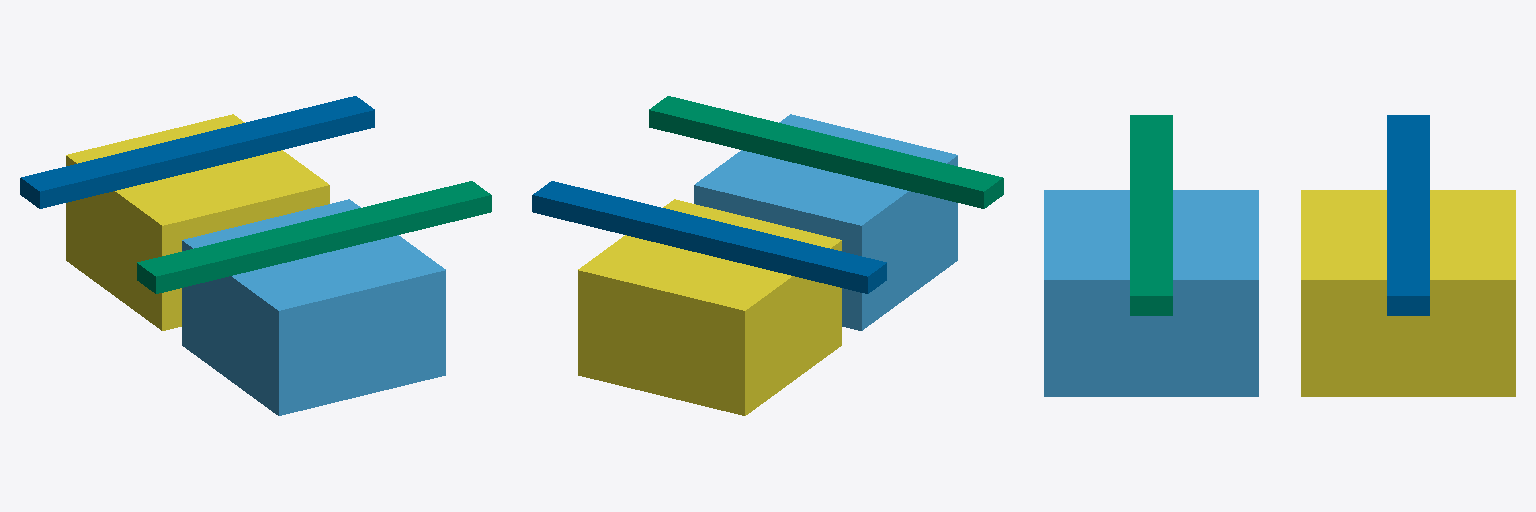
The robot description file, URDF, robot "bear_dfm_test":
<?xml version="1.0" ?>
<robot name="bear_dfm_test" xmlns:xacro="http://www.ros.org/wiki/xacro">

    <link name="base">
        <visual>
            <origin rpy="0 0 0" xyz="0 0 0"/>
            <geometry>
                <box size="0.001 0.001 0.001"/>
            </geometry>
        </visual>
    </link>
    <link name="actuator1">
        <visual>
            <origin rpy="0 0 0" xzy="0 0 0"/>
            <geometry>
                <box size="0.05 0.05 0.03"/>
            </geometry>
        </visual>
        <inertial>
            <origin rpy="0 0 0" xyz="0 0 0"/>
            <mass value="0.25"/>
            <inertia ixx="2193585.402e-9" 
                     ixy="-31.775e-9" iyy="412257.108e-9" 
                     ixz="-12830.536e-9" iyz="-30.175e-9" izz="2159649.914e-9"/>
        </inertial>
    </link>
    <joint name="fixjoint1" type="fixed">
        <parent link="base"/>
        <child link="actuator1"/>
        <origin rpy="0 0 0" xyz="0 0 0"/>
    </joint>
    <link name="arm1">
        <visual>
            <origin rpy="0 0 0" xzy="0 0 0"/>
            <geometry>
                <box size="0.1 0.01 0.005"/>
            </geometry>
        </visual>
        <inertial>
            <origin rpy="0 0 0" xyz="0 0 0"/>
            <mass value="0.01"/>
            <inertia ixx="2193585.402e-9" 
                     ixy="-31.775e-9" iyy="412257.108e-9" 
                     ixz="-12830.536e-9" iyz="-30.175e-9" izz="2159649.914e-9"/>
        </inertial>
    </link>
    <joint name="L_test_joint" type="revolute">
        <parent link="actuator1"/>
        <child link="arm1"/>
        <origin rpy="0 0 0" xyz="0 0 0.02"/>
        <axis xyz="0 0 1"/>
        <limit effort="10.0" lower="-3.14" upper="3.14" velocity="20.0"/>
    </joint>

    <link name="actuator2">
        <visual>
            <origin rpy="0 0 0" xzy="0 0 0"/>
            <geometry>
                <box size="0.05 0.05 0.03"/>
            </geometry>
        </visual>
        <inertial>
            <origin rpy="0 0 0" xyz="0 0 0"/>
            <mass value="0.25"/>
            <inertia ixx="2193585.402e-9" 
                     ixy="-31.775e-9" iyy="412257.108e-9" 
                     ixz="-12830.536e-9" iyz="-30.175e-9" izz="2159649.914e-9"/>
        </inertial>
    </link>
    <joint name="fixjoint2" type="fixed">
        <parent link="base"/>
        <child link="actuator2"/>
        <origin rpy="0 0 0" xyz="0 0.06 0"/>
    </joint>
    <link name="arm2">
        <visual>
            <origin rpy="0 0 0" xzy="0 0 0"/>
            <geometry>
                <box size="0.1 0.01 0.005"/>
            </geometry>
        </visual>
        <inertial>
            <origin rpy="0 0 0" xyz="0 0 0"/>
            <mass value="0.01"/>
            <inertia ixx="2193585.402e-9" 
                     ixy="-31.775e-9" iyy="412257.108e-9" 
                     ixz="-12830.536e-9" iyz="-30.175e-9" izz="2159649.914e-9"/>
        </inertial>
    </link>
    <joint name="R_test_joint" type="revolute">
        <parent link="actuator2"/>
        <child link="arm2"/>
        <origin rpy="0 0 0" xyz="0 0 0.02"/>
        <axis xyz="0 0 1"/>
        <limit effort="10.0" lower="-3.14" upper="3.14" velocity="20.0"/>
    </joint>

</robot>

--- Render facts (derived) ---
3 views of the same robot in one strip: view 1: azimuth 30°, elevation 25°; view 2: azimuth 150°, elevation 25°; view 3: azimuth 270°, elevation 25° (orthographic).
Model bear_dfm_test with 5 links and 4 joints (2 revolute, 2 fixed), rooted at base, posed every joint at zero.
Visible links, largest first — view 1: actuator1, actuator2, arm1, arm2; view 2: actuator2, actuator1, arm2, arm1; view 3: actuator1, actuator2, arm1, arm2.
Link boxes in pixels (box(x1,y1,x2,y2)): actuator1: box(182, 199, 445, 415); actuator2: box(66, 114, 329, 330); arm1: box(137, 181, 491, 293); arm2: box(20, 96, 374, 208); actuator2: box(578, 199, 841, 415); actuator1: box(694, 114, 957, 330); arm2: box(532, 181, 886, 293); arm1: box(649, 96, 1003, 208); actuator1: box(1044, 190, 1258, 396); actuator2: box(1301, 190, 1515, 396); arm1: box(1130, 115, 1172, 315); arm2: box(1387, 115, 1429, 315).
Bounding box of the posed robot: 0.1 × 0.11 × 0.0375 m (x, y, z).
Geometry: primitives only (box / cylinder / sphere), no mesh files.
